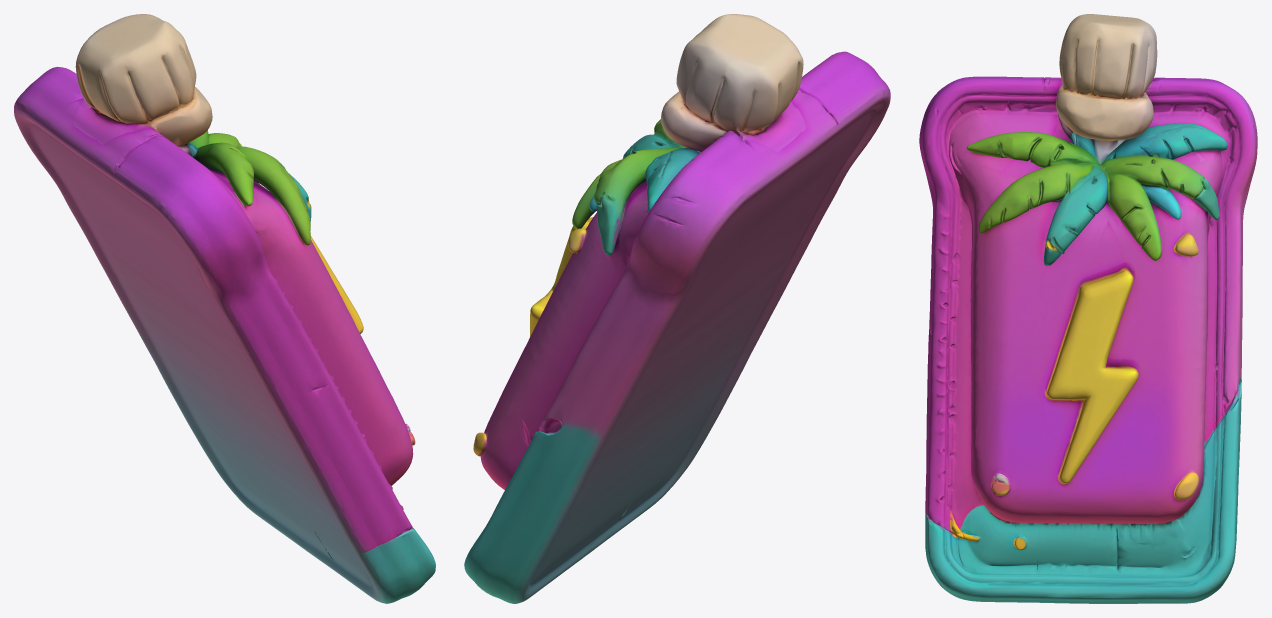
The model's file is gel.glb.
3 views of the same model, side by side, from view 1: azimuth 30°, elevation 25°; view 2: azimuth 150°, elevation 25°; view 3: azimuth 270°, elevation 25° (orthographic). The views are drawn at different scales.
Parts seen in each view (by area): view 1: tripo_node_1ead0389-d5c9-45e1-b613-8e98e5331ded; view 2: tripo_node_1ead0389-d5c9-45e1-b613-8e98e5331ded; view 3: tripo_node_1ead0389-d5c9-45e1-b613-8e98e5331ded.
Part boxes in pixels (x1,y1,x2,y2): tripo_node_1ead0389-d5c9-45e1-b613-8e98e5331ded: [14, 14, 435, 603]; tripo_node_1ead0389-d5c9-45e1-b613-8e98e5331ded: [464, 14, 890, 603]; tripo_node_1ead0389-d5c9-45e1-b613-8e98e5331ded: [919, 14, 1257, 603].
Size of the model in its own units: 0.5176 by 0.9804 by 0.5902.
1 material, 1 textured.
